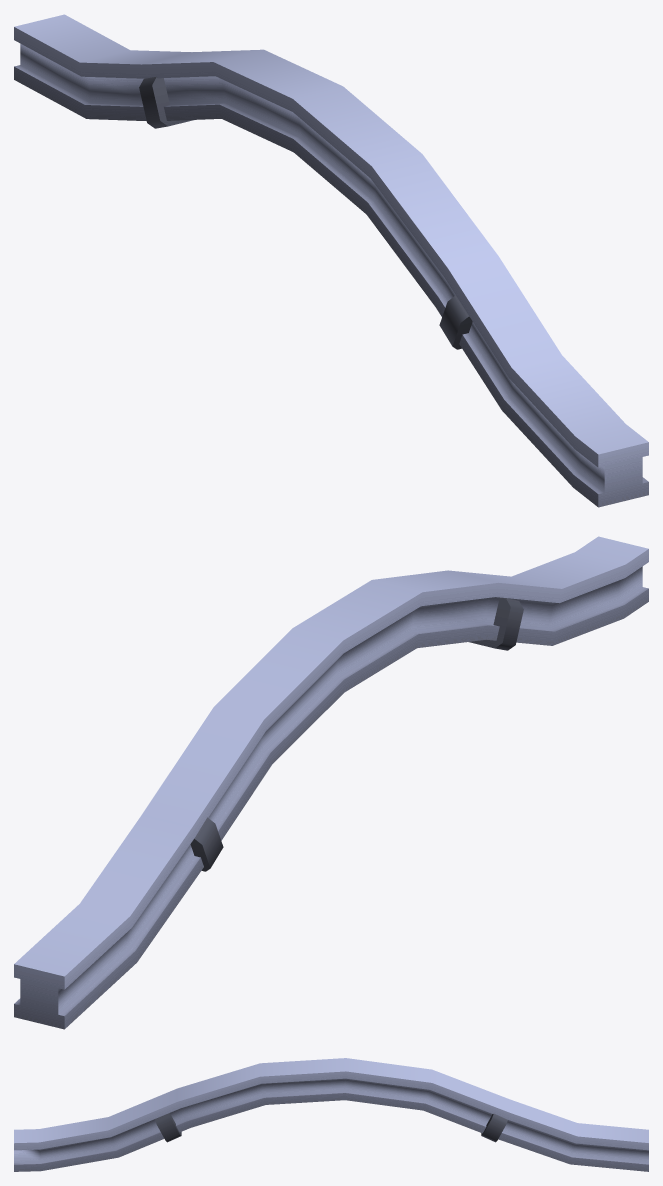
The model's file is coaster-monorail-straight-bump-up.glb.
The picture shows the model from 3 angles, top to bottom: view 1: azimuth 30°, elevation 25°; view 2: azimuth 150°, elevation 25°; view 3: azimuth 270°, elevation 25°; orthographic projection. The views are drawn at different scales.
Visible parts, largest first — view 1: coaster-monorail-straight-bump-up; view 2: coaster-monorail-straight-bump-up; view 3: coaster-monorail-straight-bump-up.
Boxes of the visible parts, x1=… form: coaster-monorail-straight-bump-up: x1=14, y1=14, x2=648, y2=507; coaster-monorail-straight-bump-up: x1=14, y1=536, x2=648, y2=1029; coaster-monorail-straight-bump-up: x1=14, y1=1058, x2=648, y2=1171.
Bounding box in the file's own units: 0.75 × 2.1 × 12.
1 material, 1 textured.
